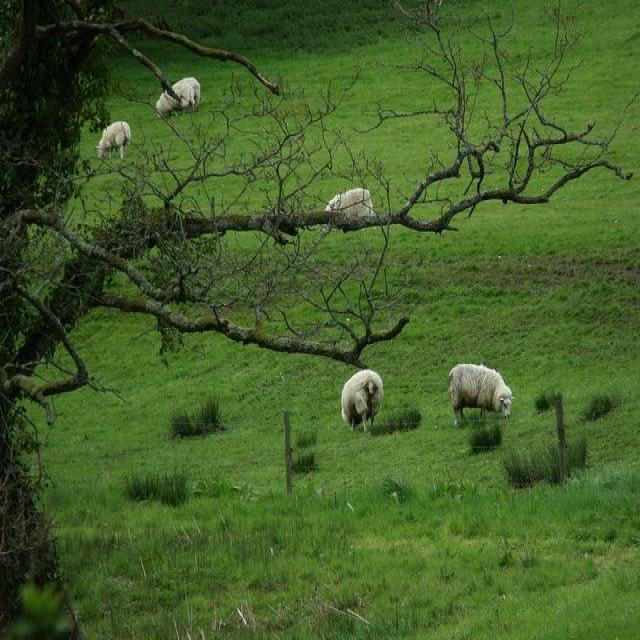Sheep: (447, 364, 513, 429), (343, 364, 386, 437), (323, 189, 376, 235)
